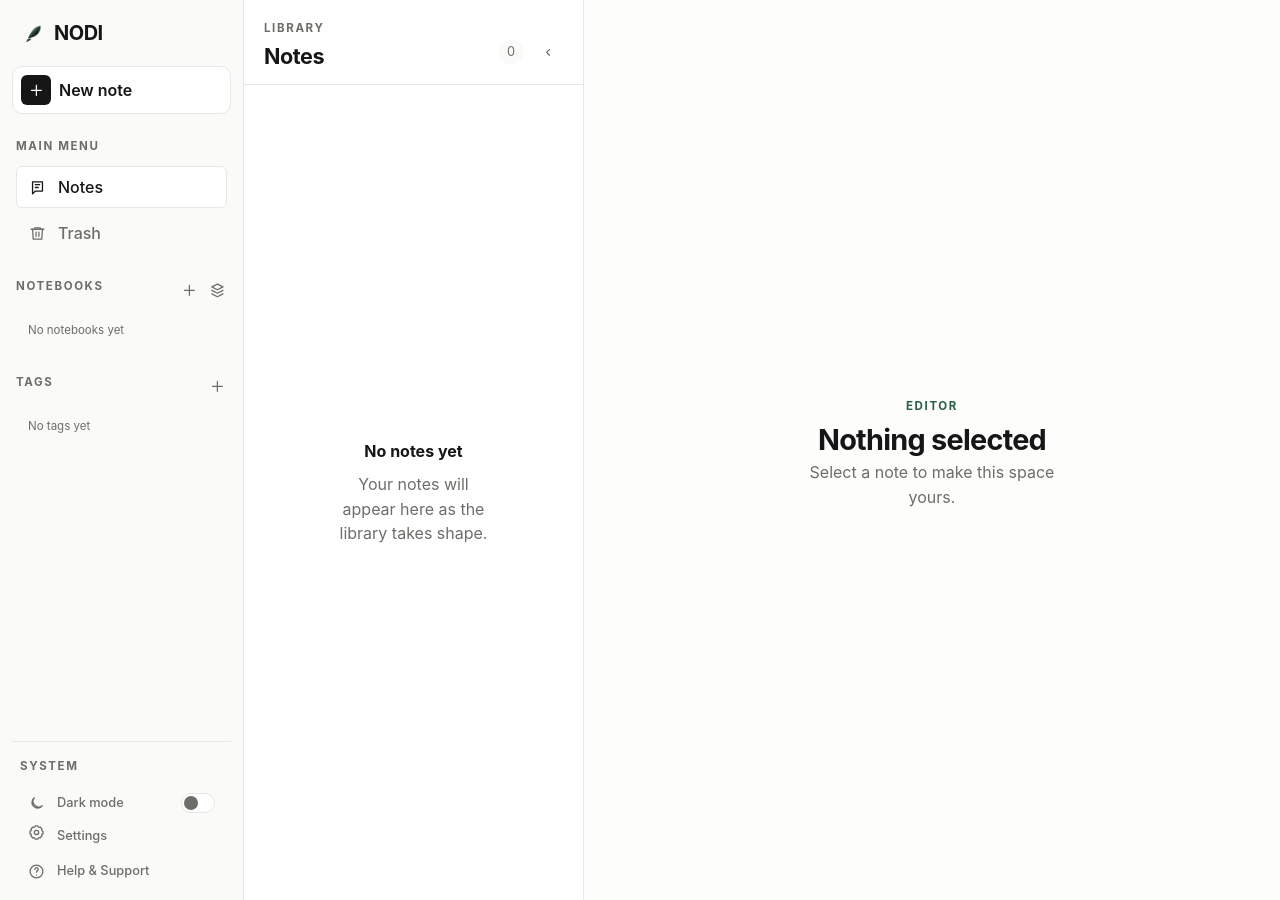
Test case: NODI app › collapses and restores the Library
This screenshot has width=1280, height=900.
Click the button named "Collapse Library" at {"x": 547, "y": 52}, box [531,36,563,68]
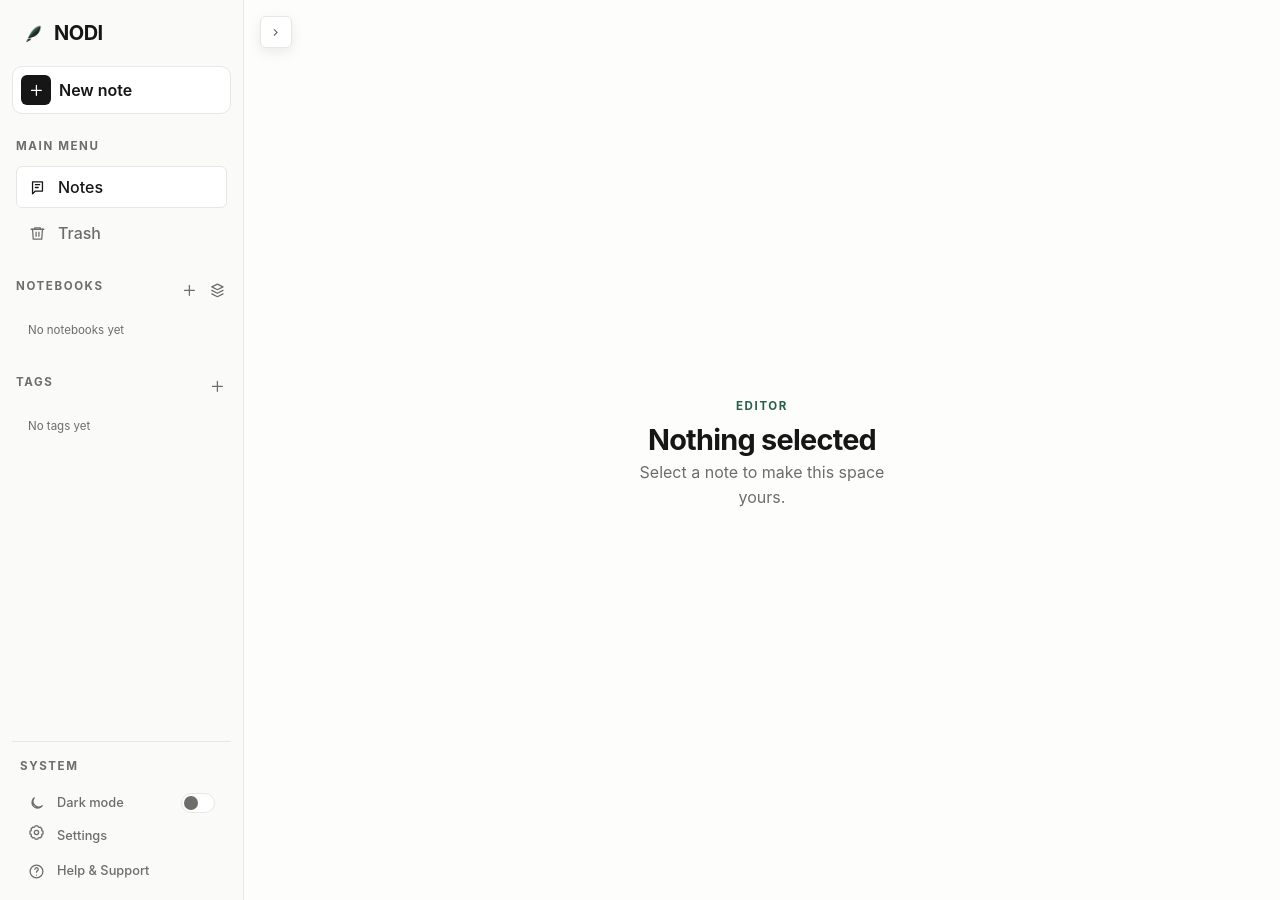
Click the button named "Expand Library" at {"x": 276, "y": 32}, box [260,16,292,48]
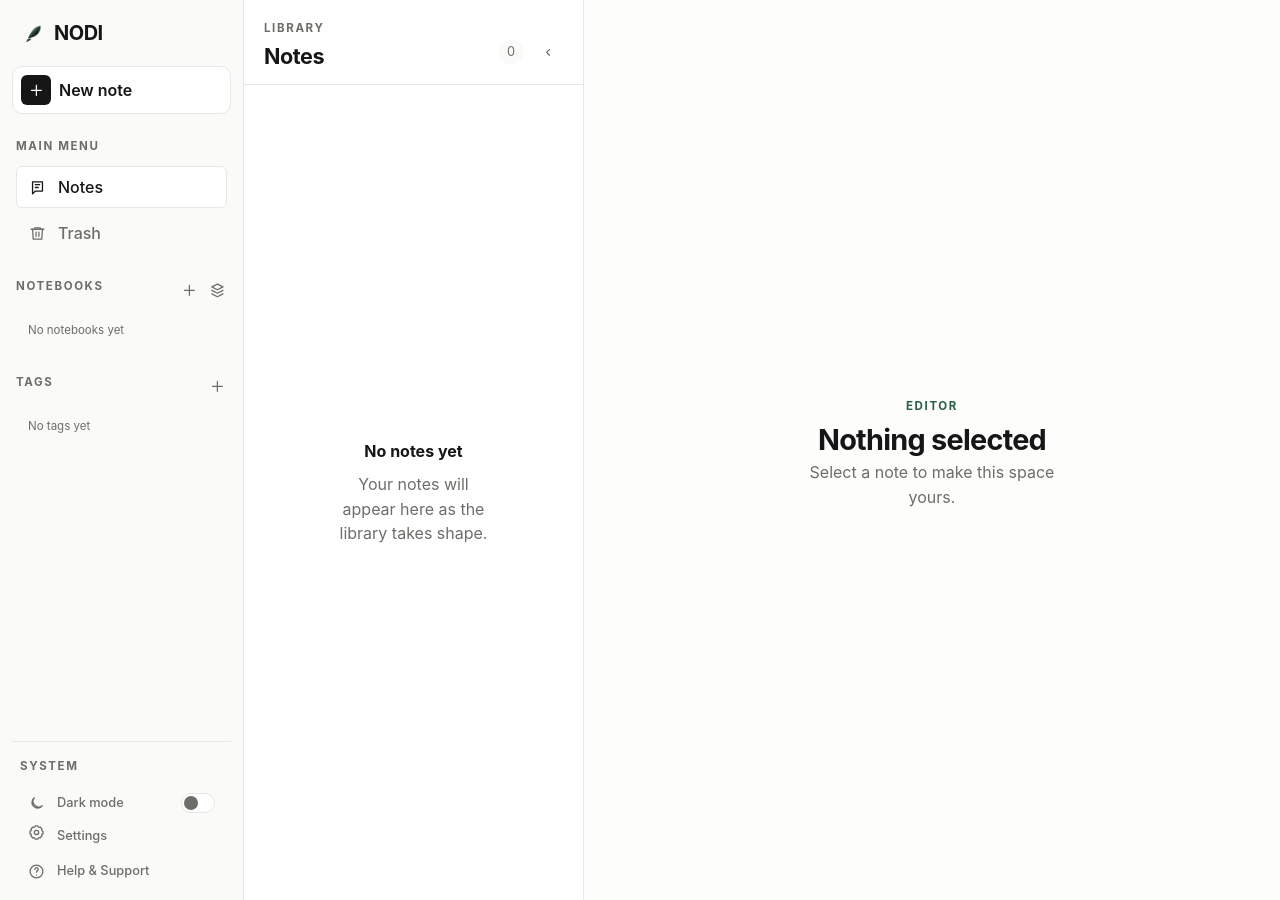
Check: the element "Notes" is shown, box [244,0,584,899]
